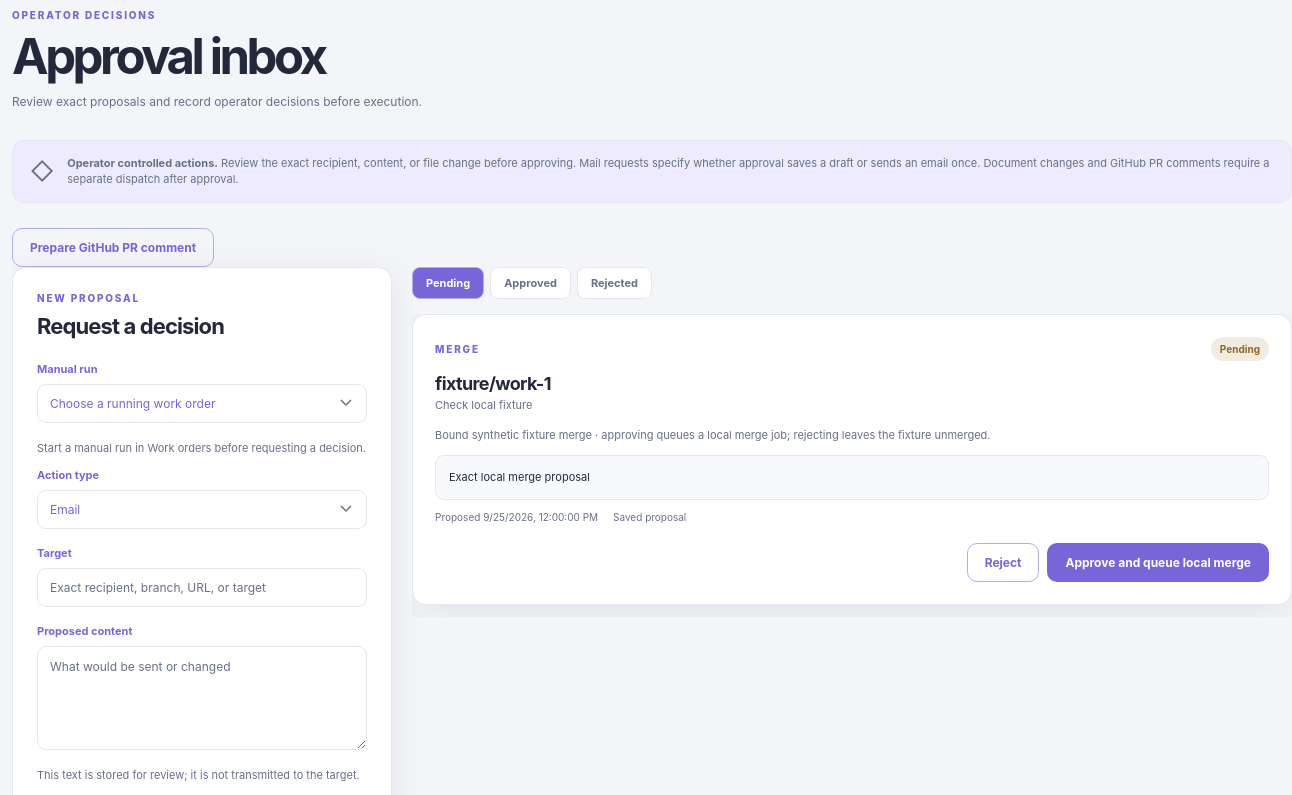
Test: approves only a bound local merge and reads back its queued job
The image size is (1292, 795).
Click the button "Approve and queue local merge". click: (1158, 562)
box: [1047,543,1269,582]
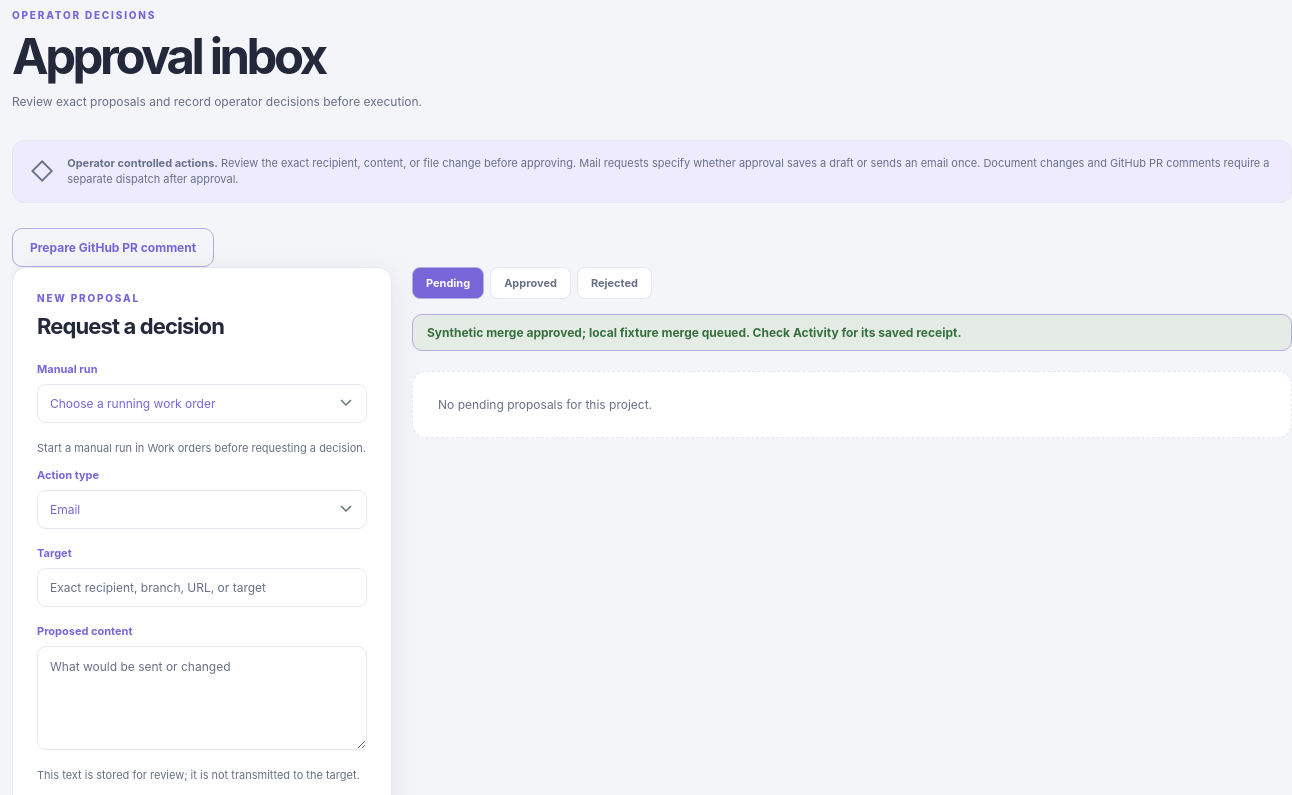
Expected: the text "Synthetic merge approved; local fixture merge queued. Check Activity for its saved receipt." is shown, [427,324,961,340]
